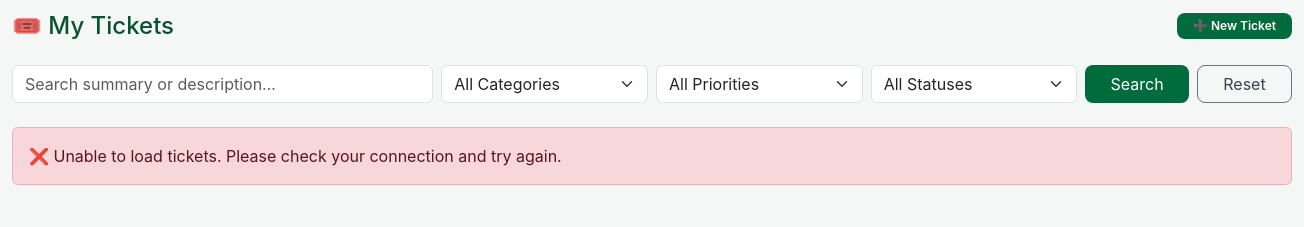
Test: API error handling — getTickets rejects › clears the error banner and reloads successfully after the user submits a new search
expect the message "❌ Unable to load tickets. Please check your connection and try again." is shown: met, box [12,127,1292,185]
In the search field: (223, 84) [12,65,433,103], type "retry search"
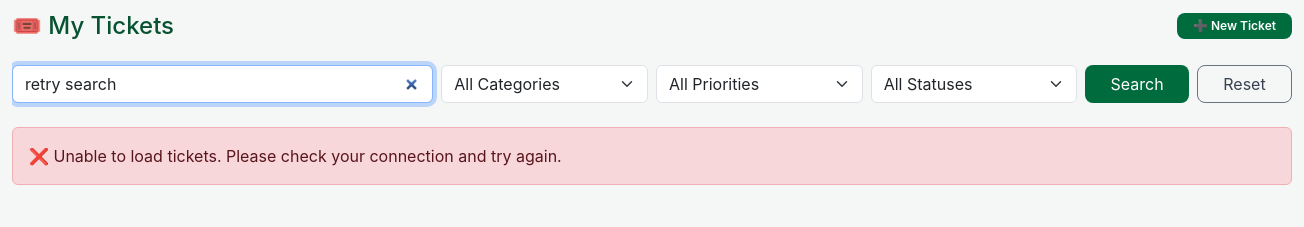
Click the button with aria-label "apply filters": click(1137, 84) [1085,65,1189,103]
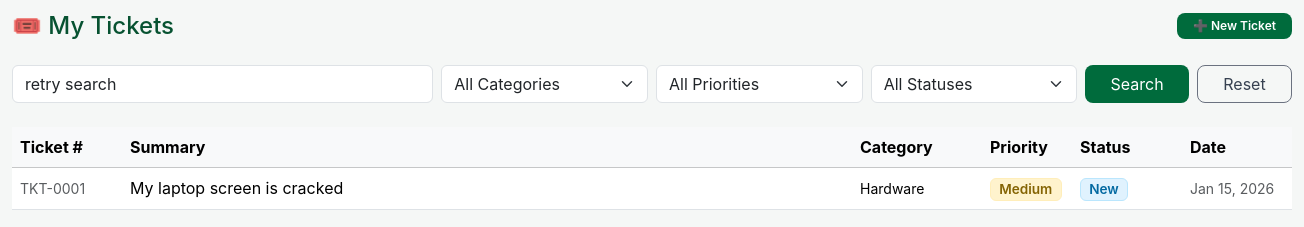
expect the message "❌ Unable to load tickets. Please check your connection and try again." is gone: met
expect the element with test id "table-view" is shown: met, box [12,127,1292,210]
expect the text "TKT-0001" is shown: met, box [12,167,122,209]
